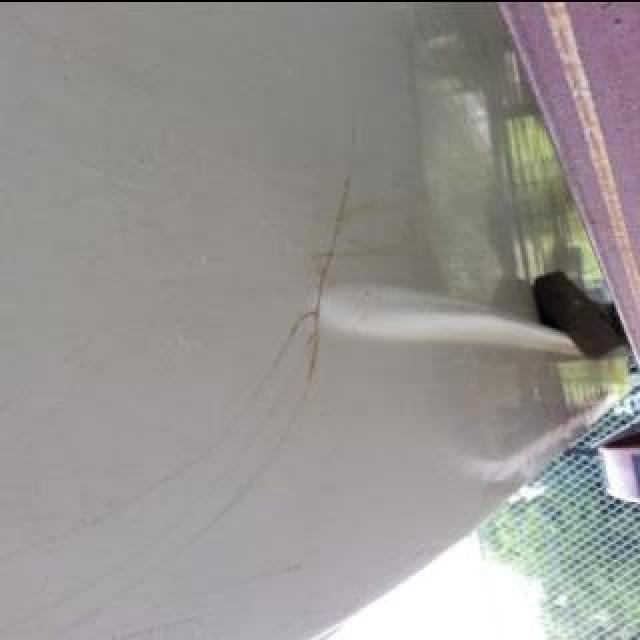crack: (43, 105, 359, 640), (1, 330, 317, 630), (6, 309, 320, 557)
dent: (97, 609, 221, 640)
